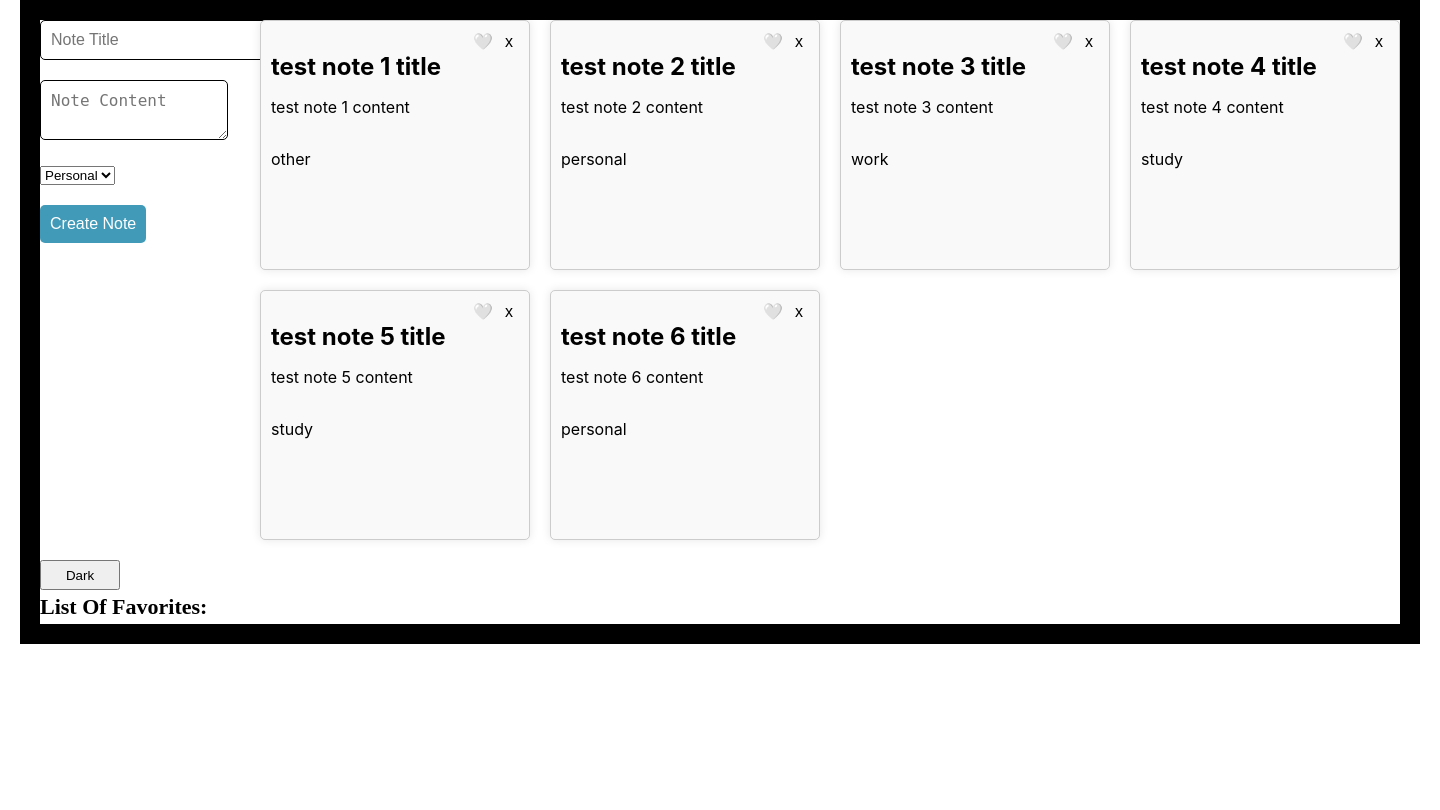
Test: Create StickyNote › click heart
Click the 1st button "🤍": (483,42) [467, 31, 499, 52]
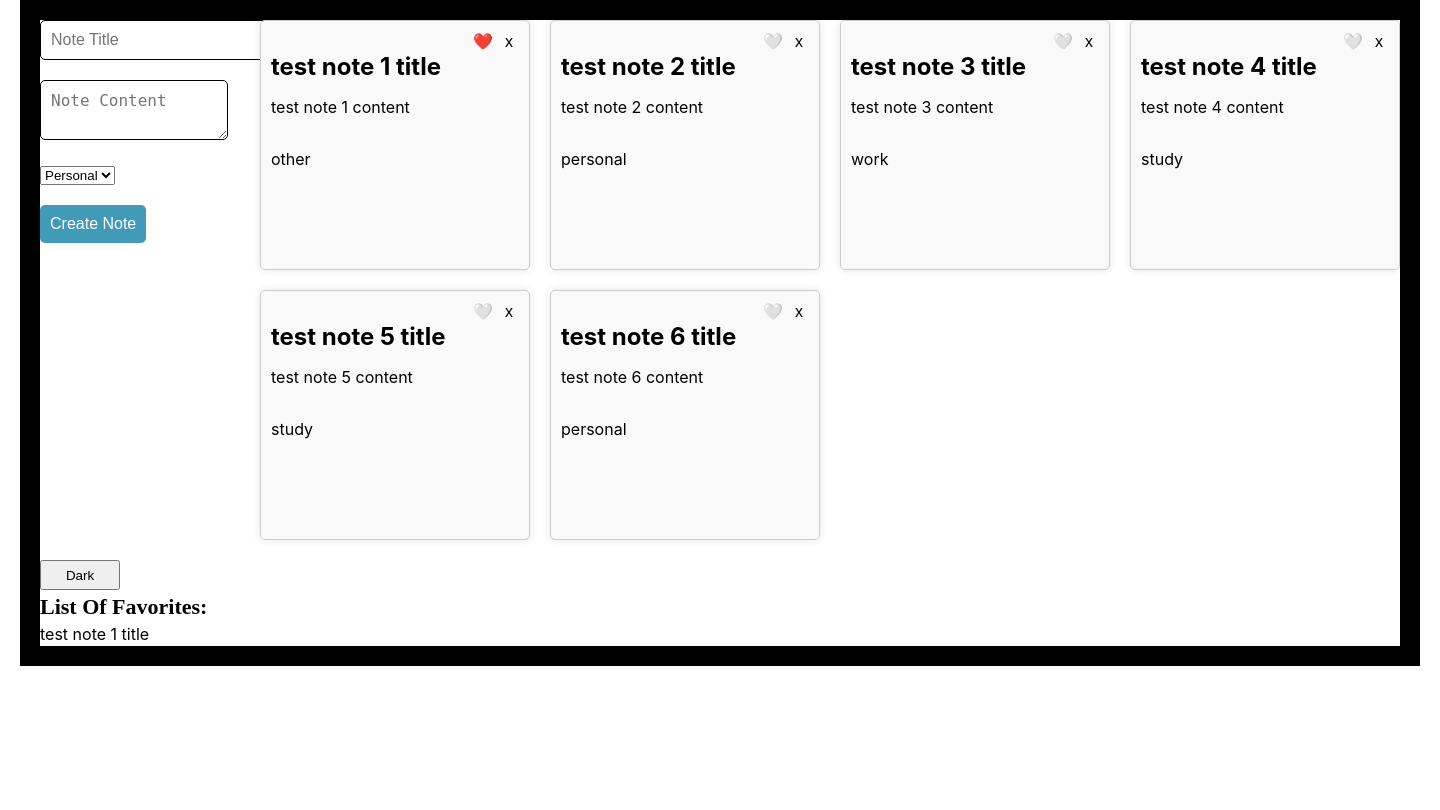
Click the 1st button "🤍": (773,42) [757, 31, 789, 52]
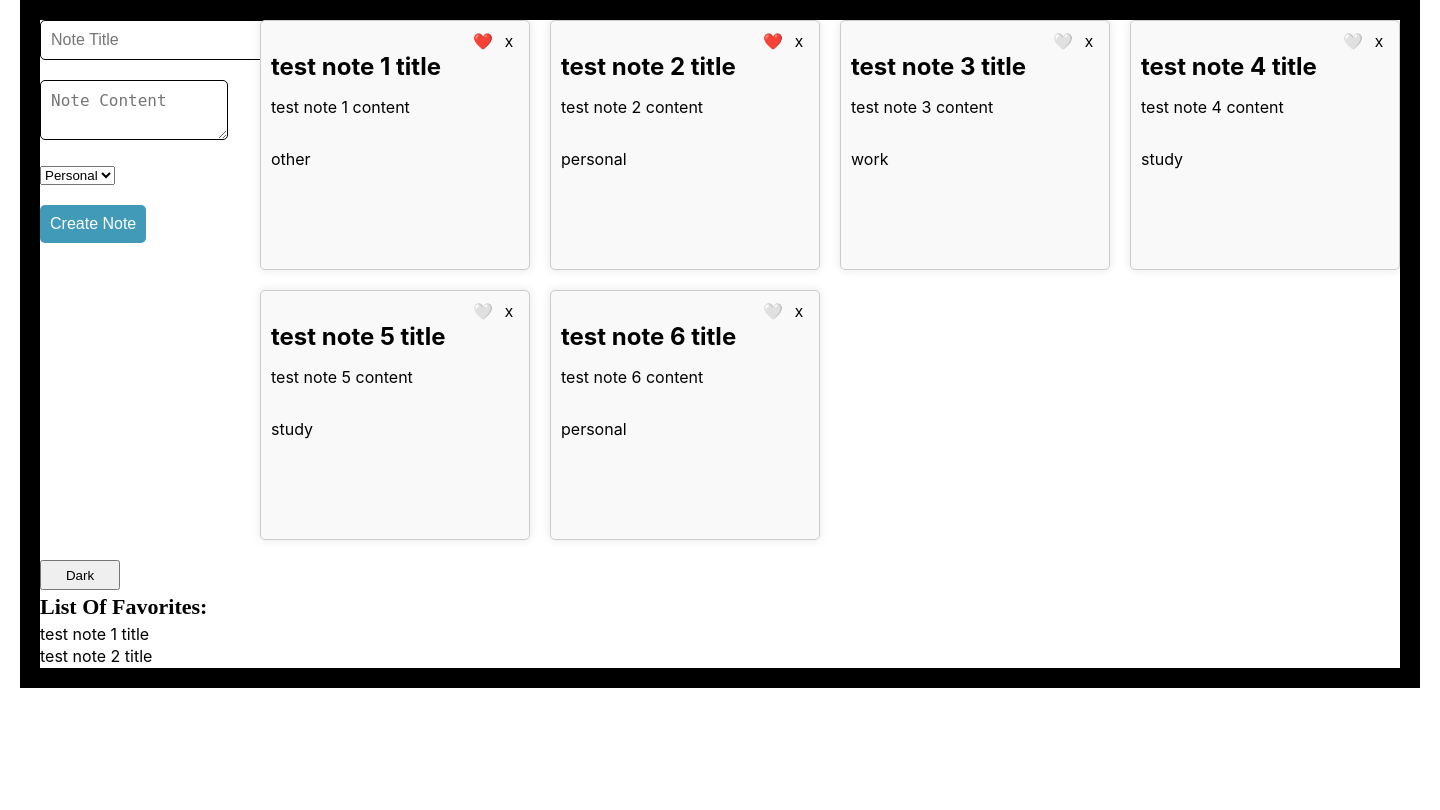
Click the 1st button "🤍": (1063,42) [1047, 31, 1079, 52]
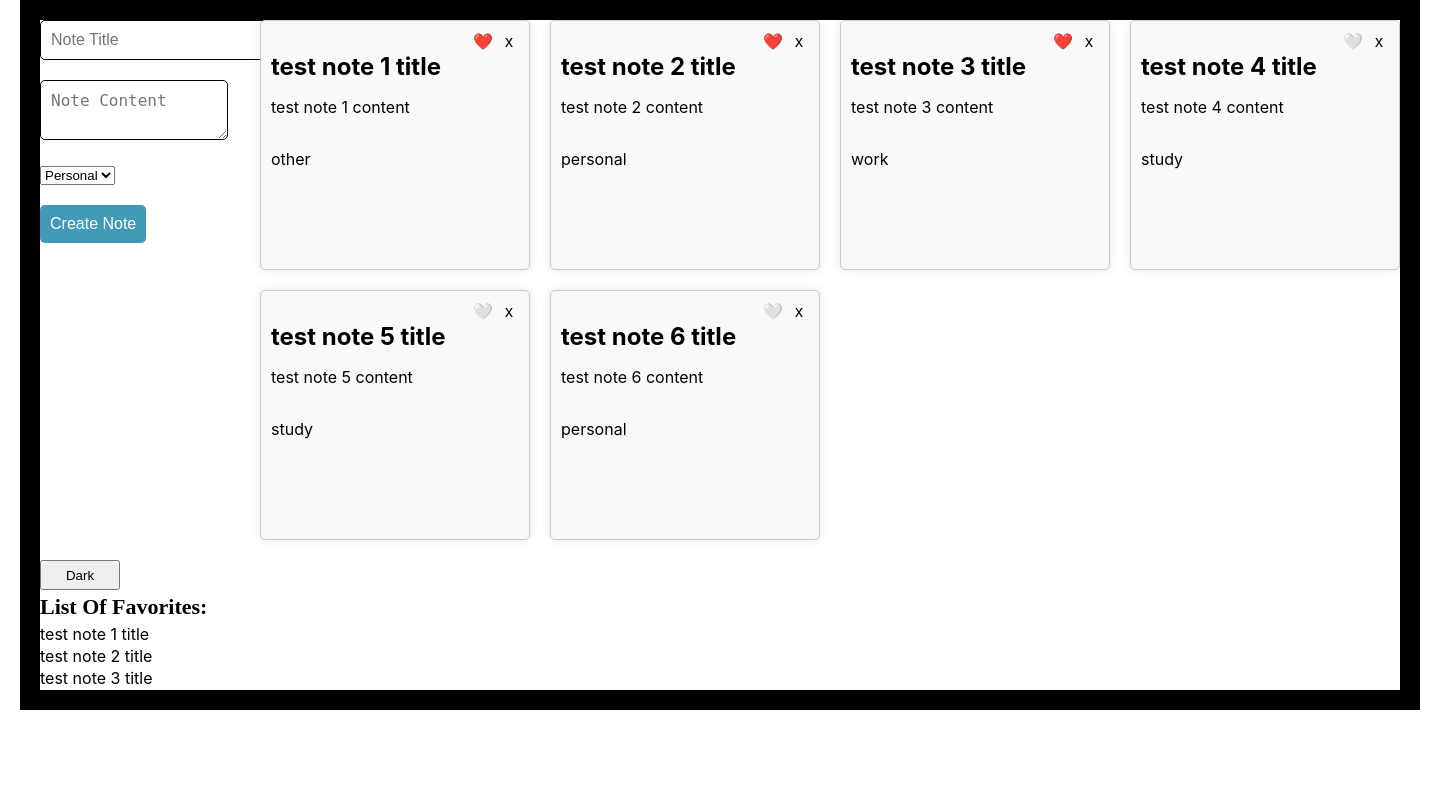
Click the 1st button "🤍": (1353,42) [1337, 31, 1369, 52]
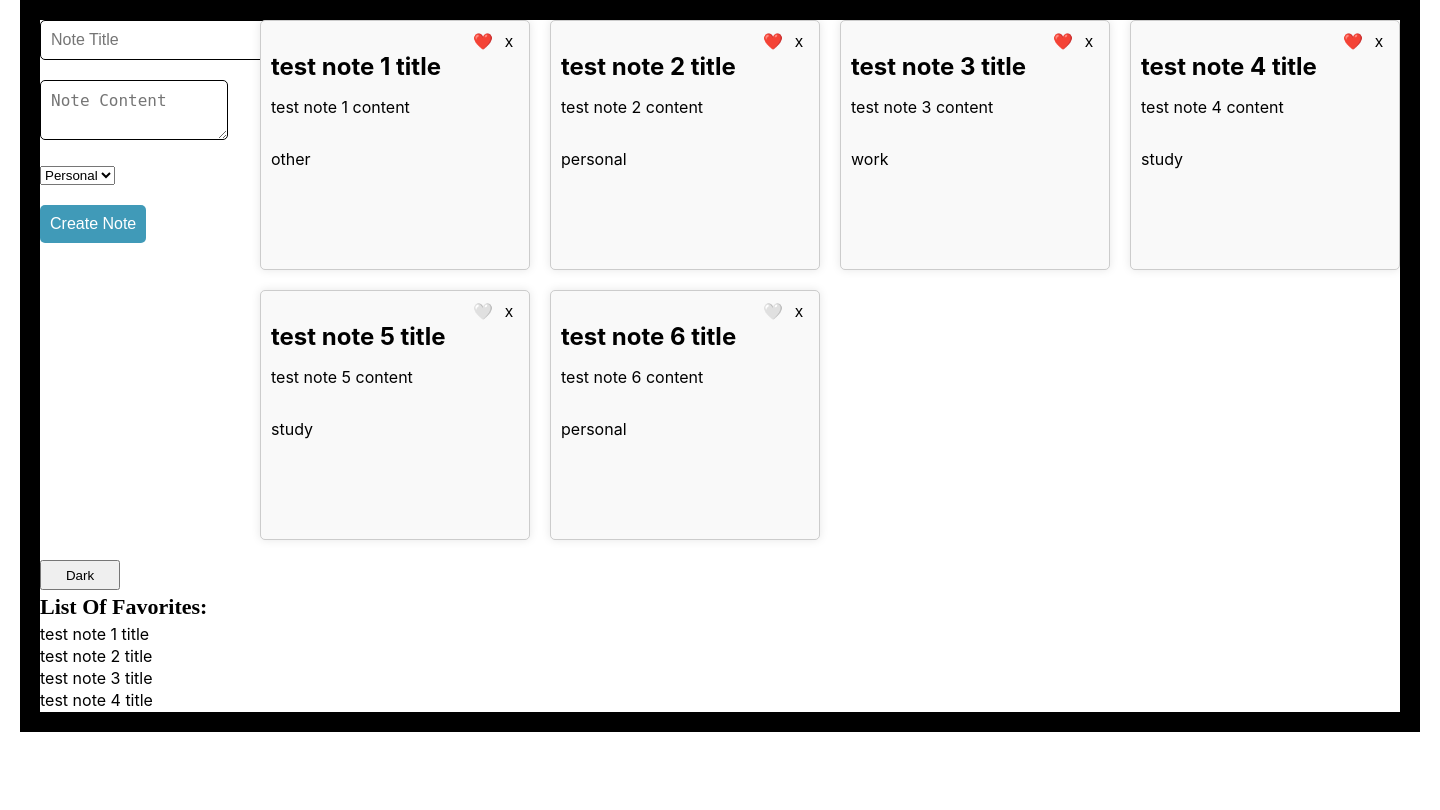
Click the 1st button "🤍": (483,312) [467, 301, 499, 322]
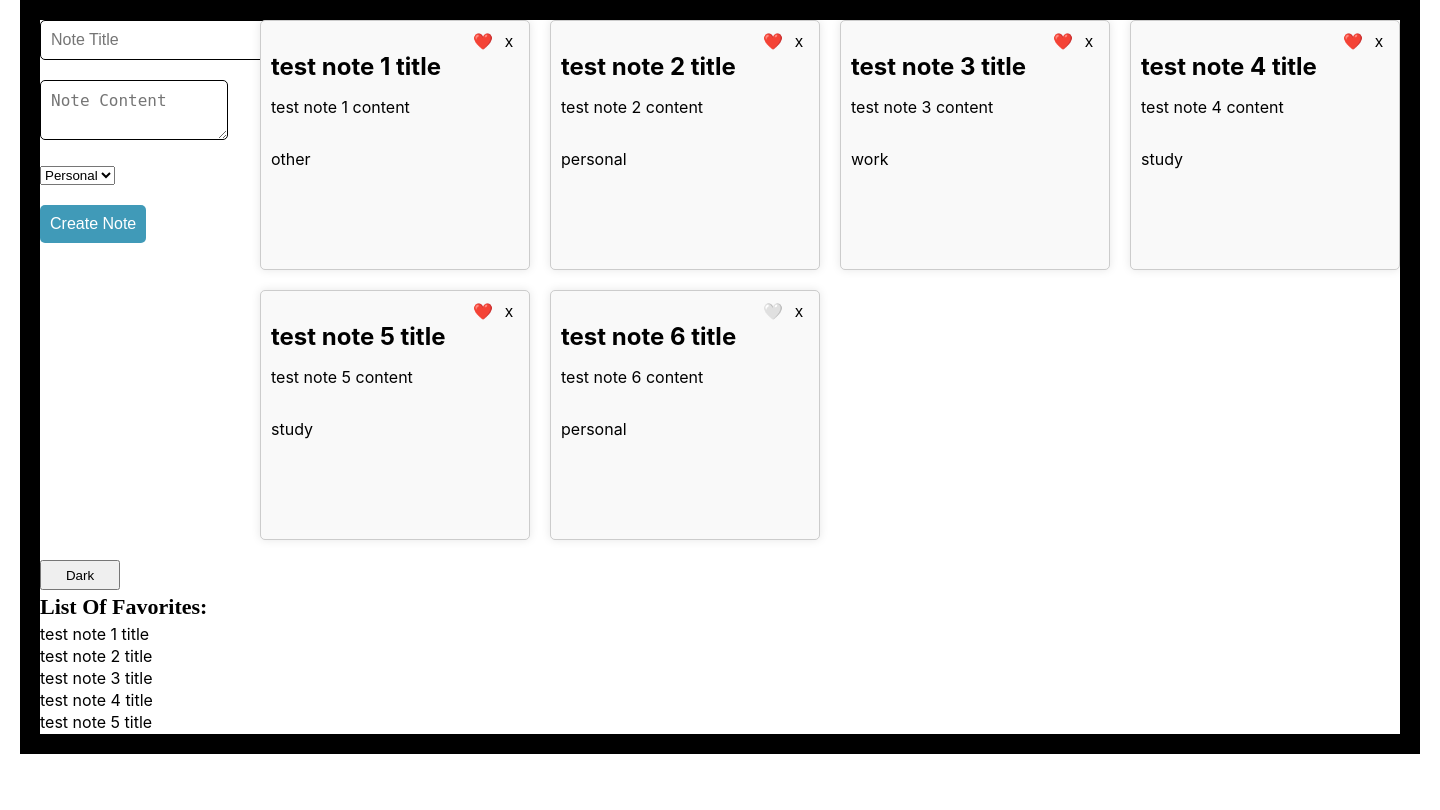
Click the button "🤍": (773,312) [757, 301, 789, 322]
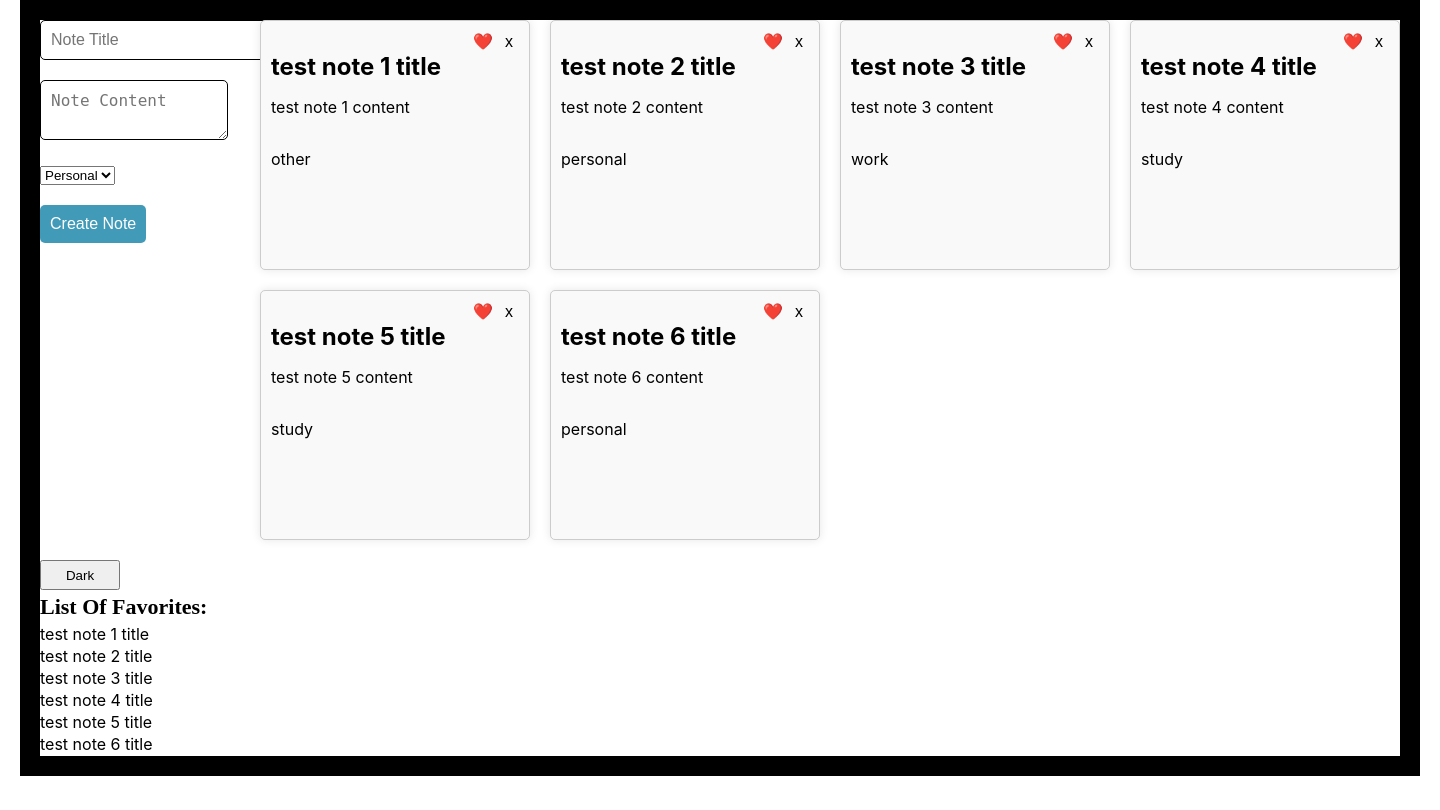
Expected: no buttons "🤍" are shown
